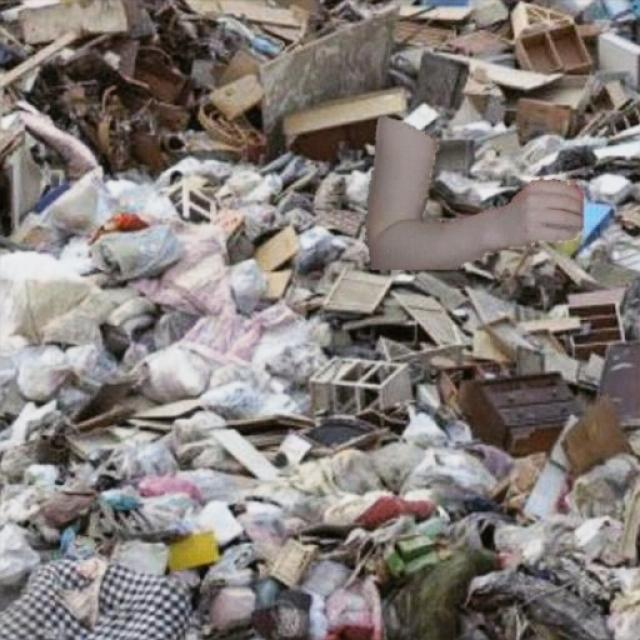Person in Rubble: (365, 115, 583, 269)
